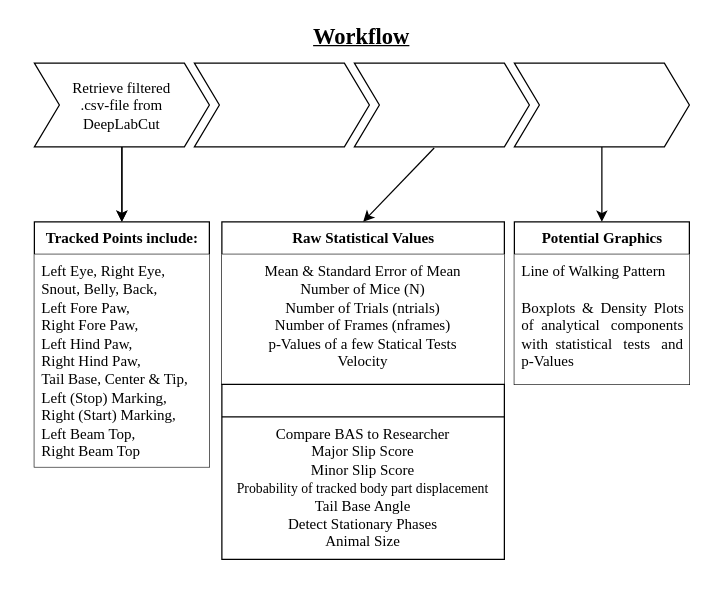
Some shapes in this 723 by 593 pixel diagram are drawn without their labels. Here are the shapes that lost their labels. From the top down, the centre of each, then its label:
At (x=281, y=104): "Use outlier correction script in R Studio or other IDE".
At (x=441, y=104): "Read-in and analyze corrected .csv-file with the main script".
At (x=601, y=104): "Optionally generate graphs with the main script".
At (x=362, y=471): "Analytical Components".
